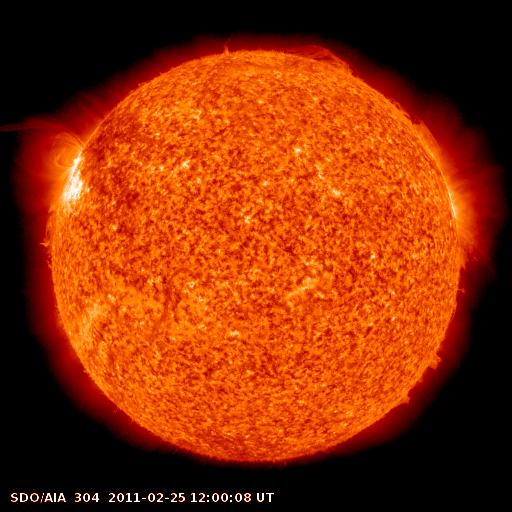prominence: (365, 81, 451, 154), (387, 345, 456, 415), (445, 221, 499, 307), (271, 32, 364, 77), (1, 107, 93, 145), (29, 209, 65, 277)
